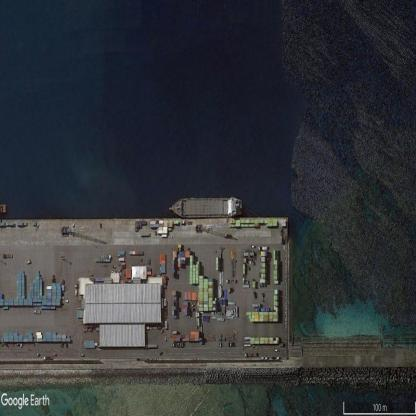ship: (168, 197, 240, 215)
